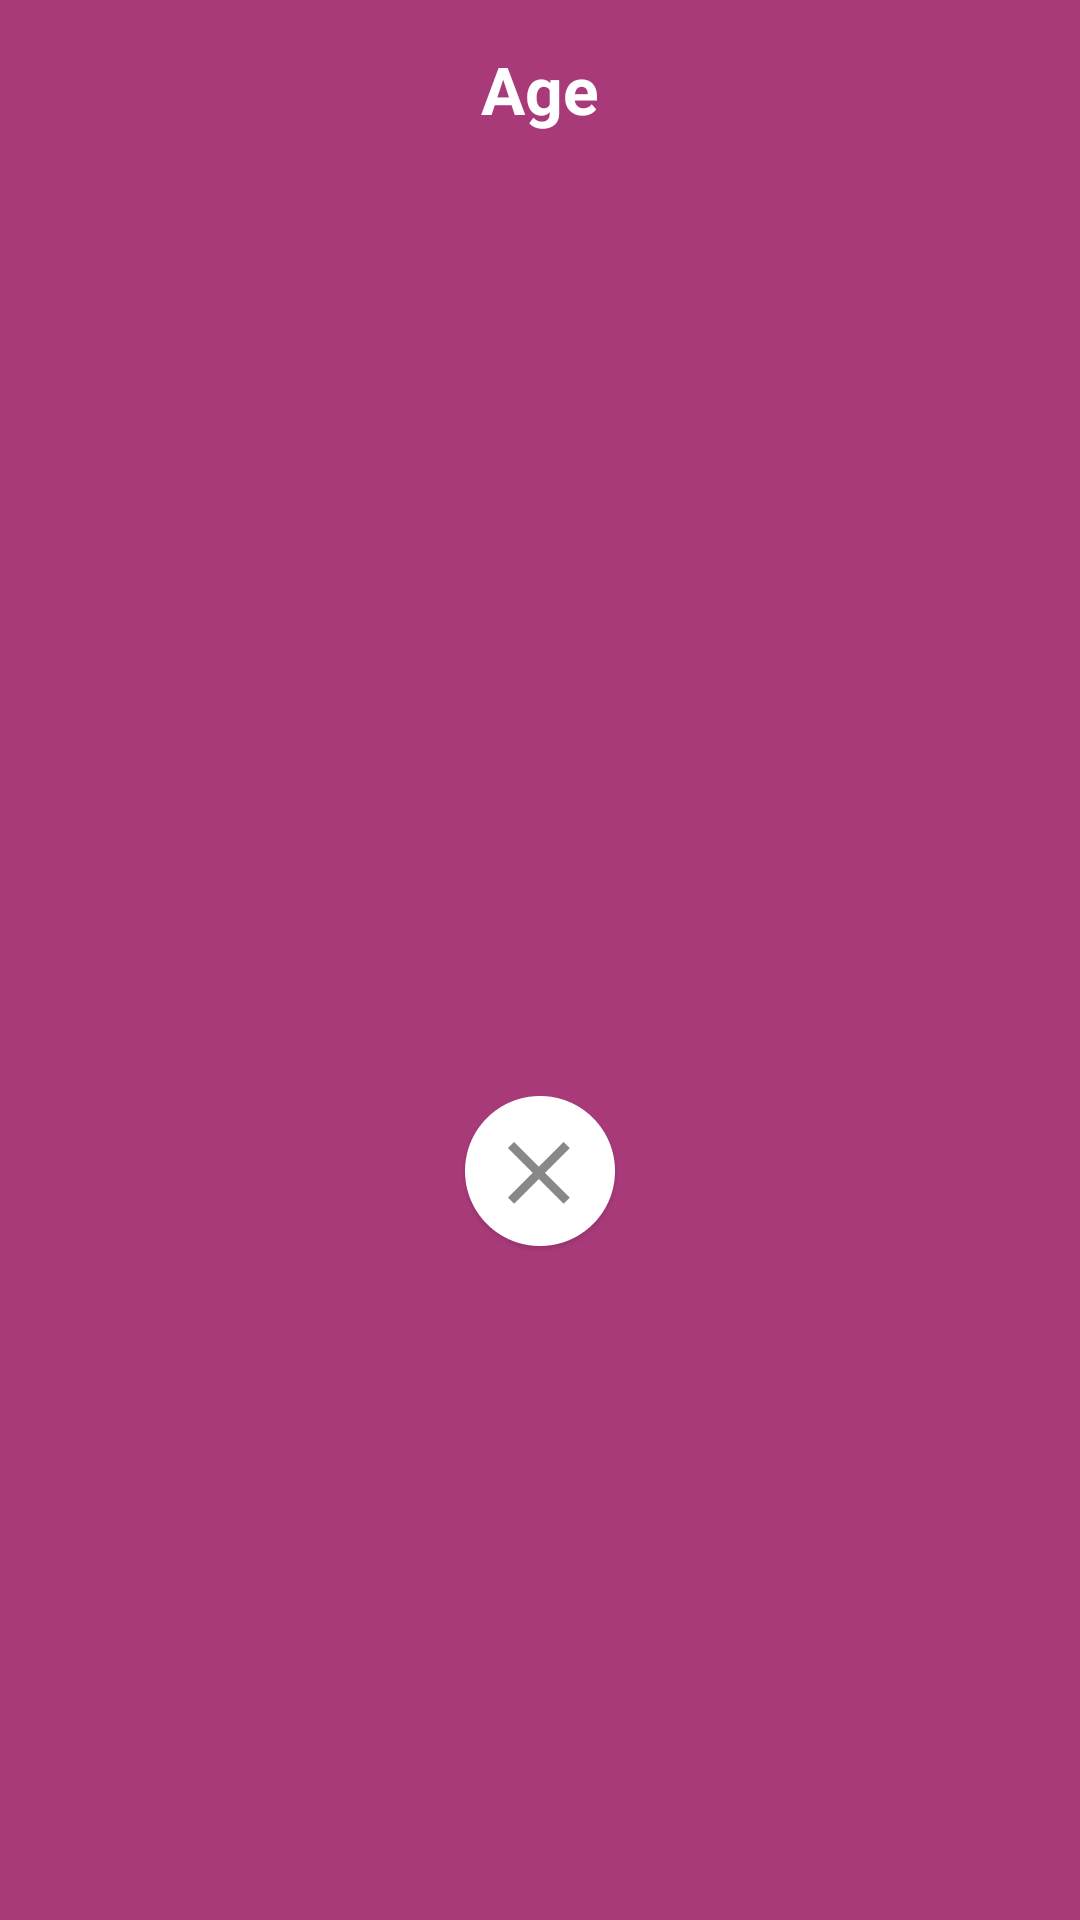

Where to tap for icons on this 1080w x 1920h app screen, as (x,y):
close: (540,1171)
